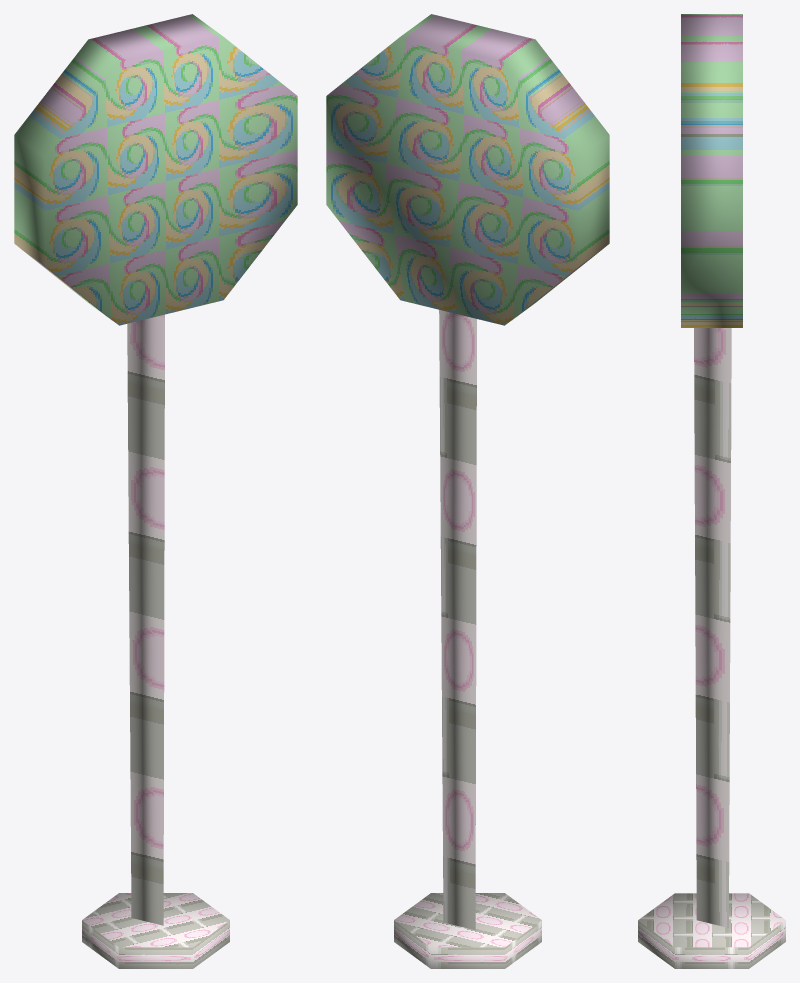
File: 3147IMFY02_09.gltf
3 renders of one model, left to right at view 1: azimuth 30°, elevation 25°; view 2: azimuth 150°, elevation 25°; view 3: azimuth 270°, elevation 25°, orthographic.
Visible parts, largest first — view 1: 3147IMFY02_09; view 2: 3147IMFY02_09; view 3: 3147IMFY02_09.
Part boxes in pixels (left/top/right/bottom): 3147IMFY02_09: left=14, top=14, right=297, bottom=968; 3147IMFY02_09: left=326, top=14, right=609, bottom=968; 3147IMFY02_09: left=638, top=14, right=785, bottom=968.
Size of the model in its own units: 0.583 by 2 by 0.2969.
3 materials, 3 textured.
